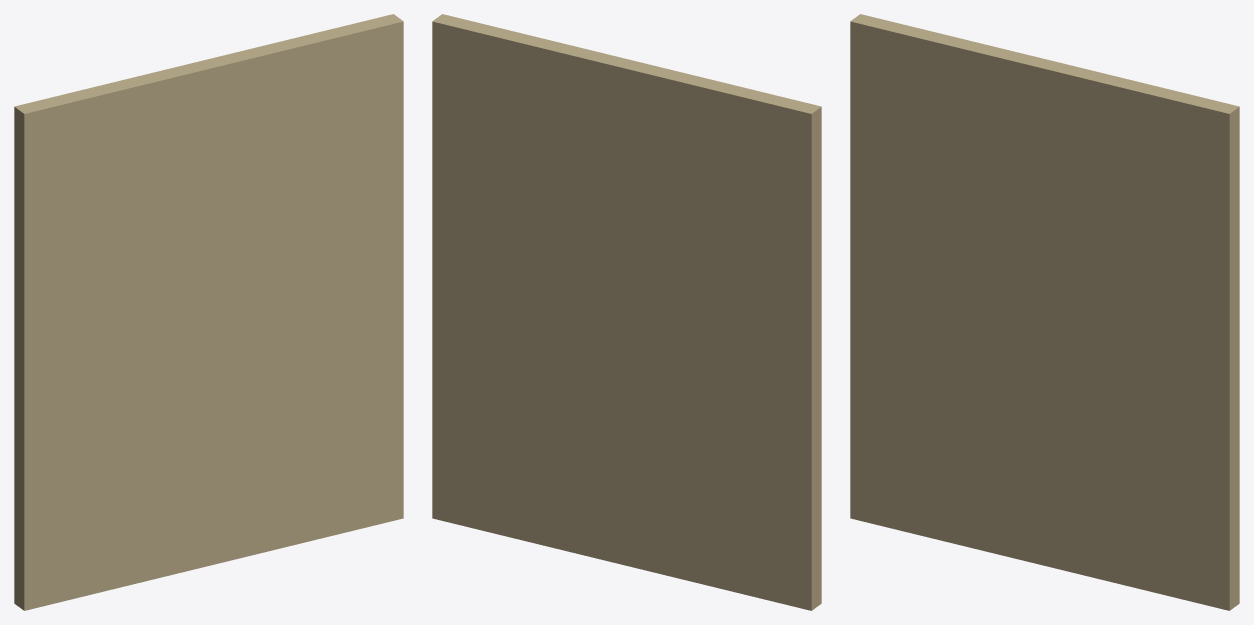
3 views of the same model, side by side, from view 1: azimuth 30°, elevation 25°; view 2: azimuth 150°, elevation 25°; view 3: azimuth 330°, elevation 25° (orthographic).
Parts seen in each view (by area): view 1: GF-W127; view 2: GF-W127; view 3: GF-W127.
Boxes of the visible parts, x1,y1,x2,y2 form: GF-W127: (14, 14, 403, 610); GF-W127: (432, 14, 821, 610); GF-W127: (850, 14, 1239, 610).
Size of the model in its own units: 1.93 by 2.42 by 0.09.
